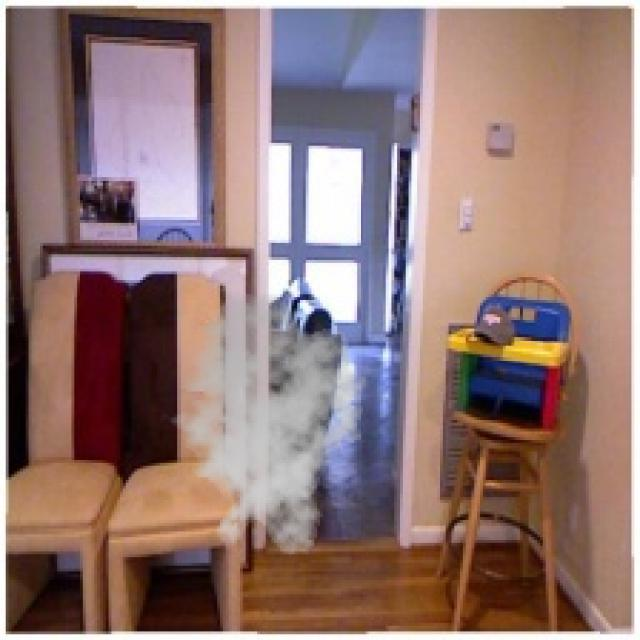smoke: (160, 292, 374, 557)
